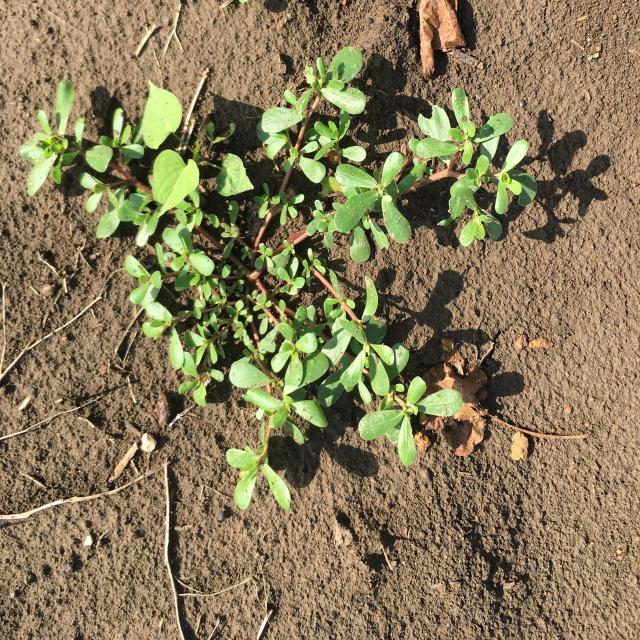Purslane: (20, 46, 538, 510)
